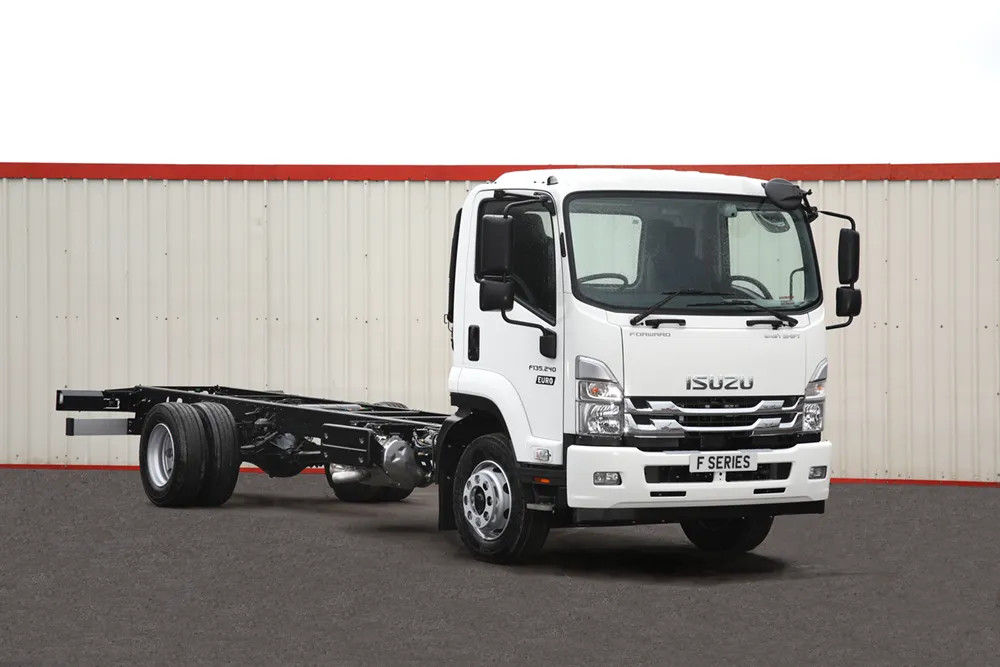truck: (52, 166, 863, 557)
